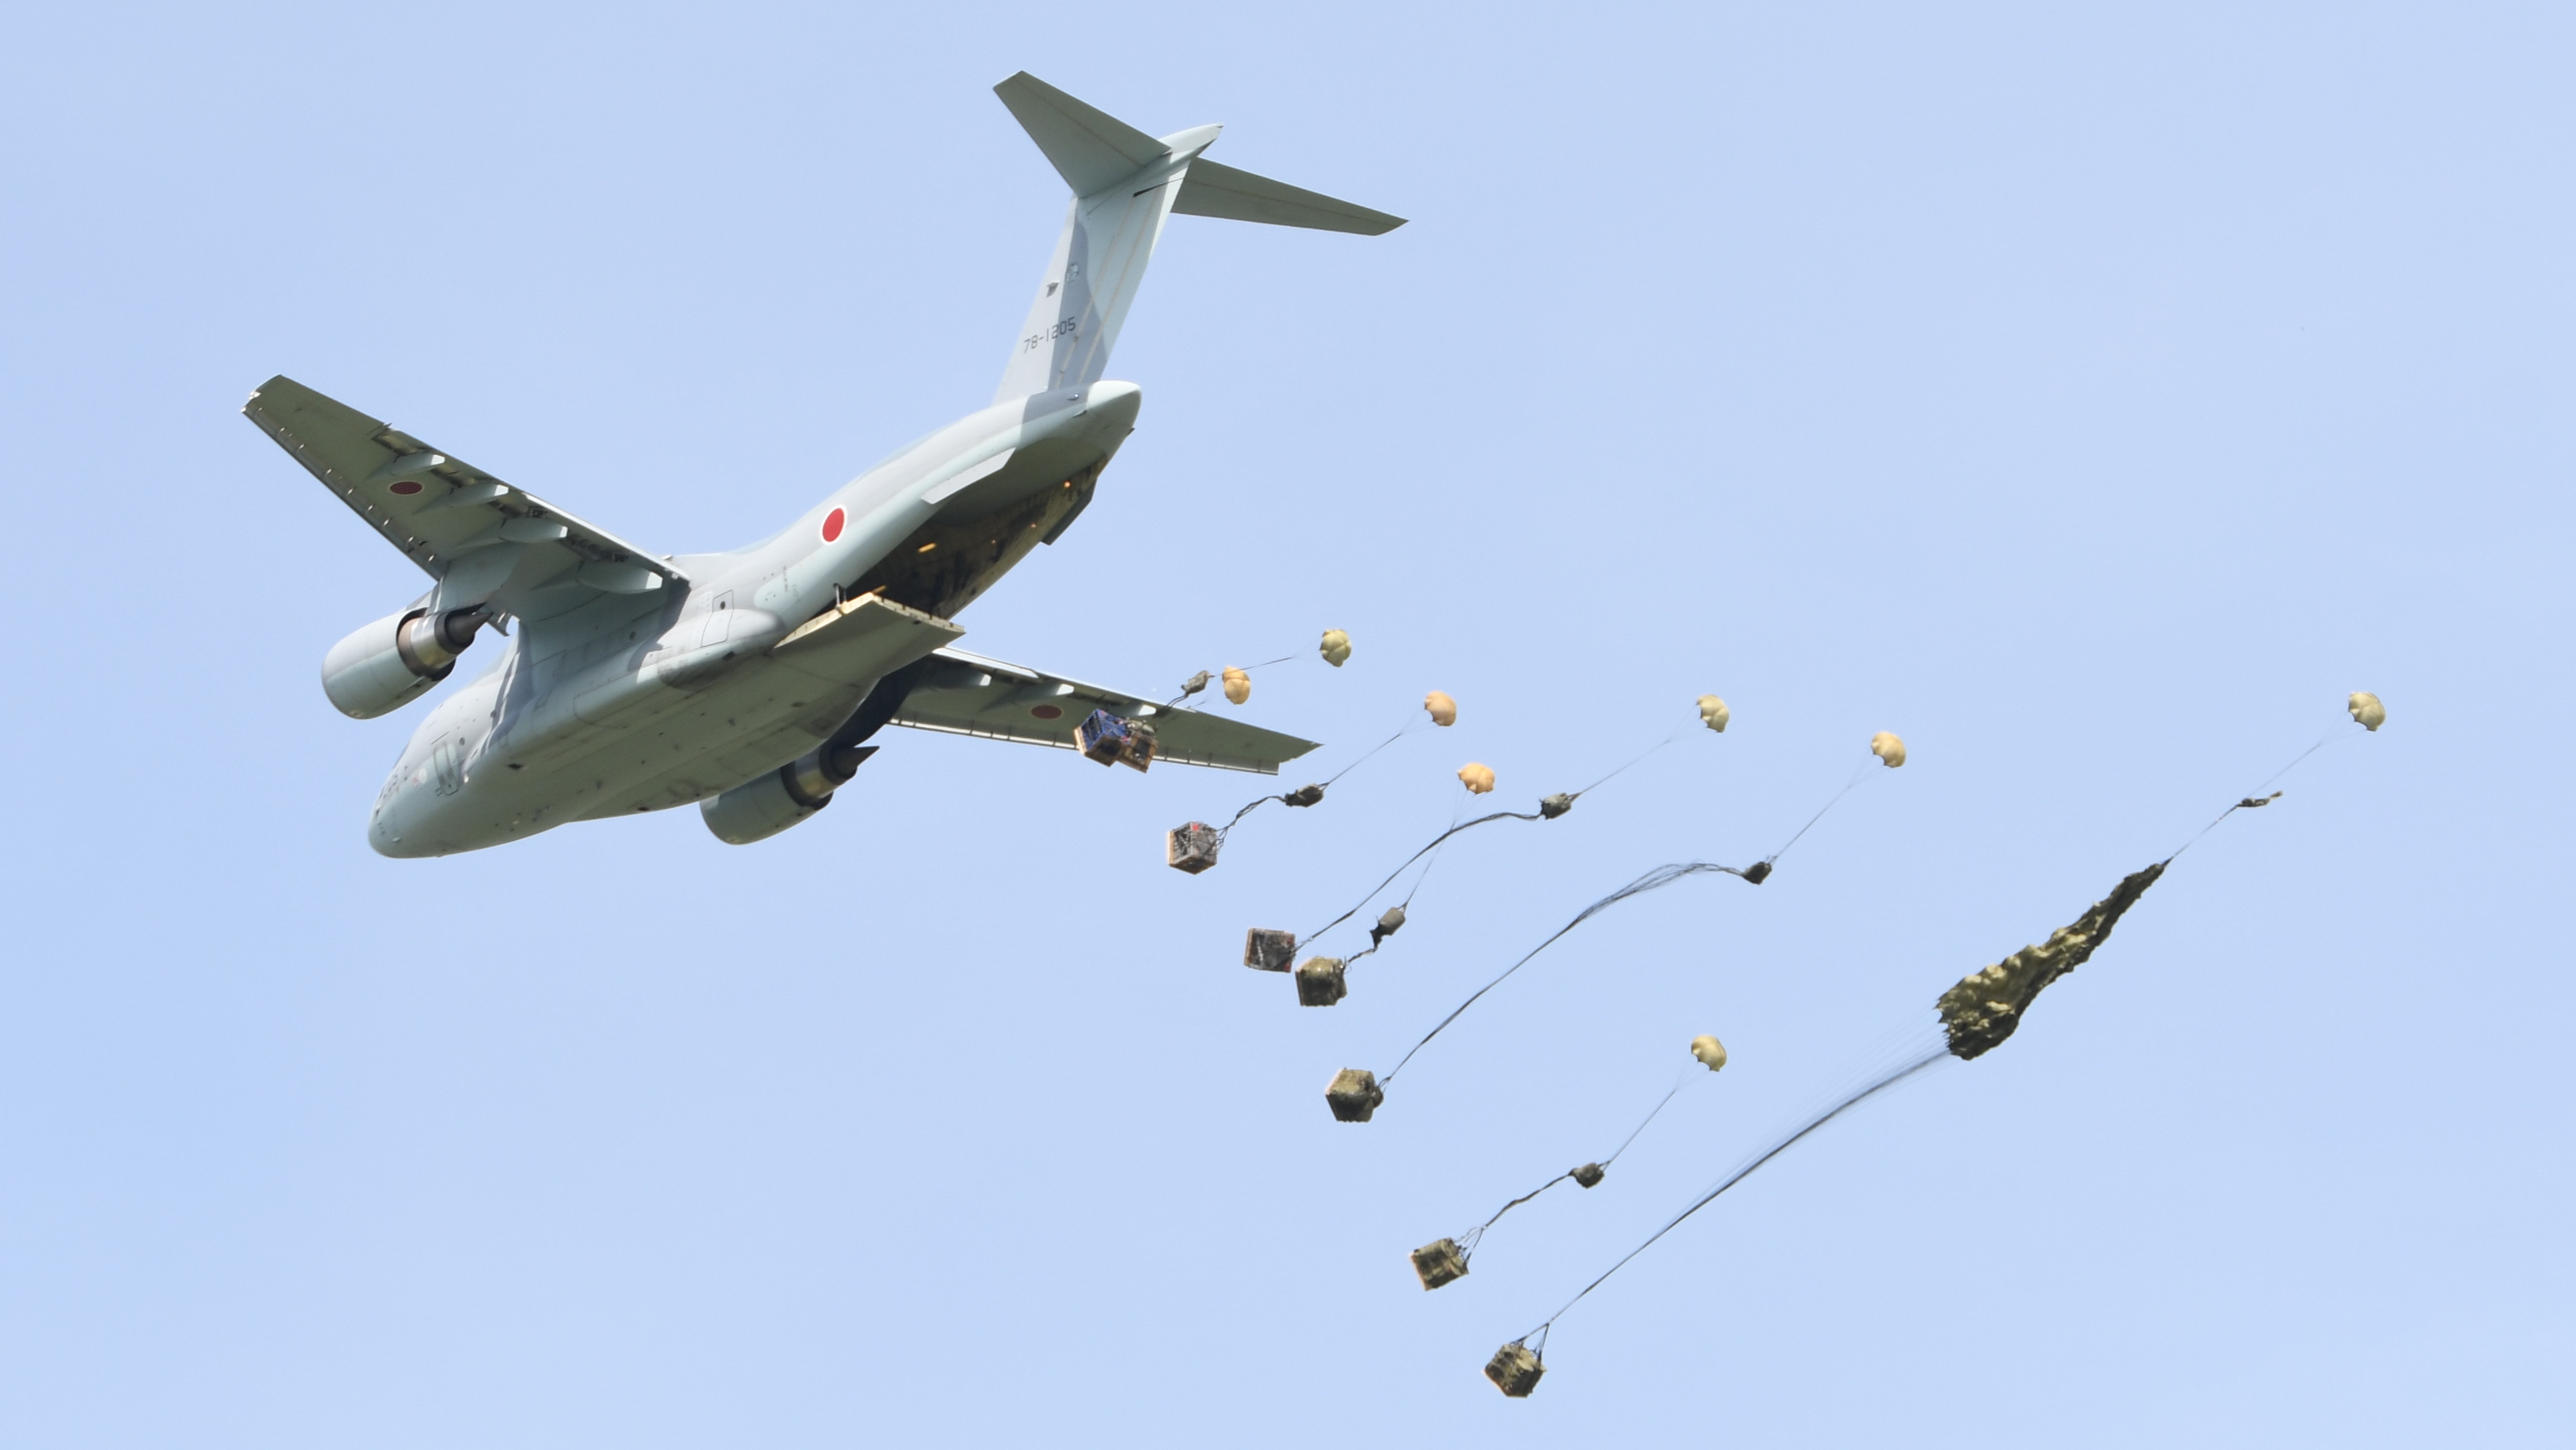airplane: (239, 69, 1410, 859)
